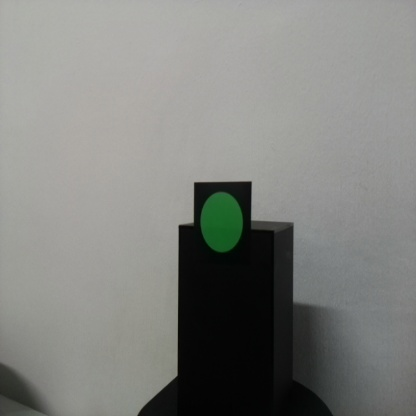id_5: (194, 182, 252, 262)
